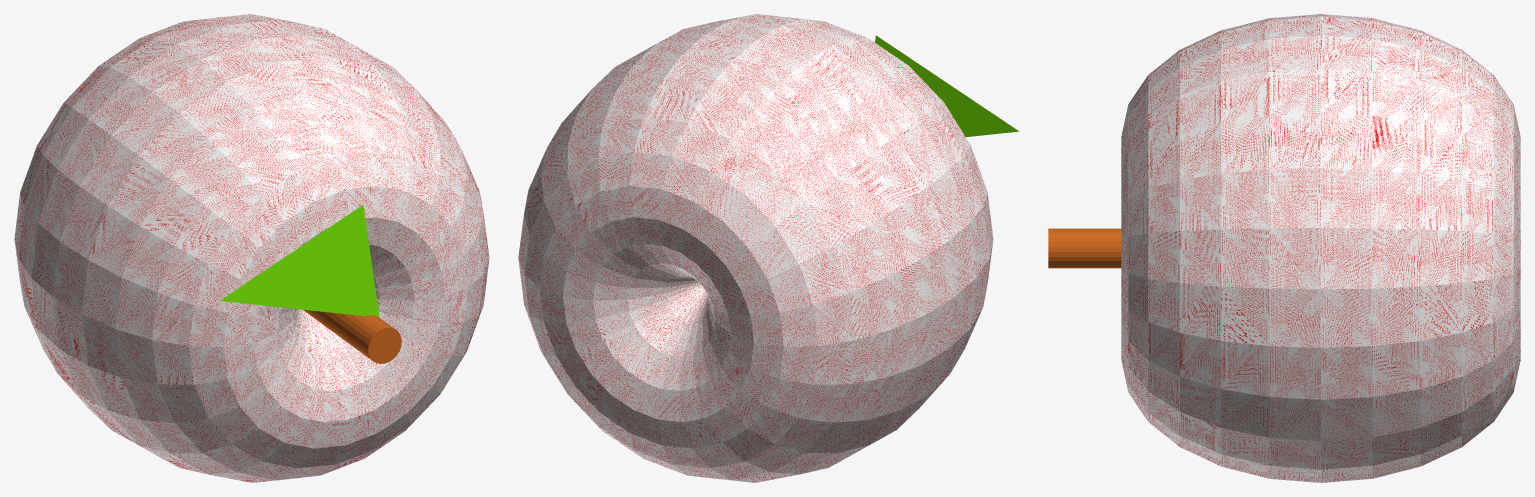
3 renders of one model, left to right at view 1: azimuth 30°, elevation 25°; view 2: azimuth 150°, elevation 25°; view 3: azimuth 270°, elevation 25°, orthographic. The views are drawn at different scales.
Visible parts, largest first — view 1: apple; view 2: apple; view 3: apple.
Part boxes in pixels (bbox=[...]): apple: bbox=[14, 14, 489, 482]; apple: bbox=[518, 14, 1019, 482]; apple: bbox=[1048, 14, 1520, 482].
Size of the model in its own units: 92.9 by 92.9 by 93.15.
